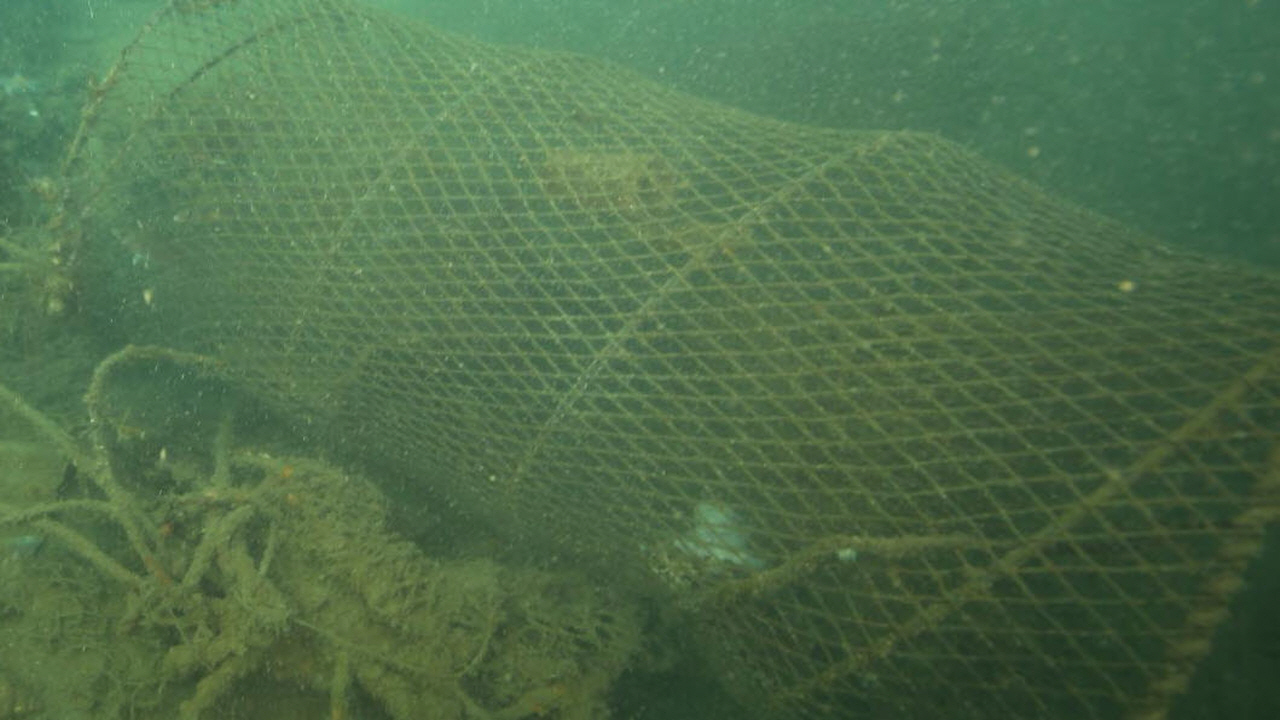bundle of rope: (2, 339, 285, 705)
spring fish trap: (45, 0, 1280, 720)
